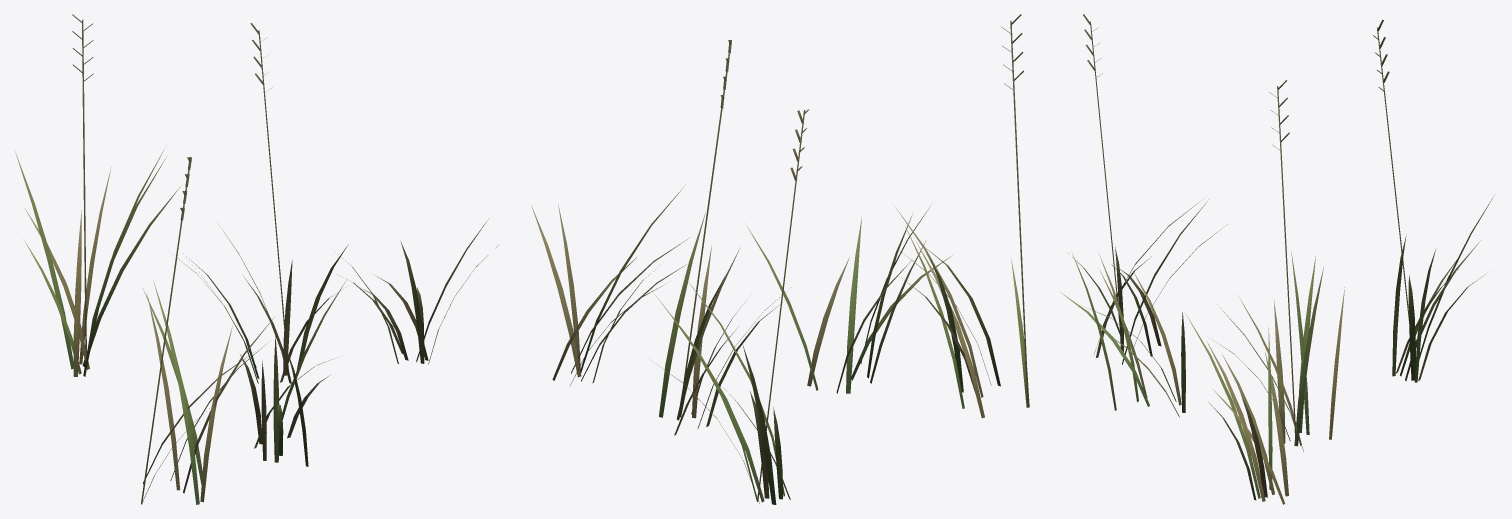
Rendered from meadow_dry.gltf.
The picture shows the model from 3 angles, left to right: view 1: azimuth 30°, elevation 25°; view 2: azimuth 150°, elevation 25°; view 3: azimuth 270°, elevation 25°; orthographic projection. The views are drawn at different scales.
Parts seen in each view (by area): view 1: meadow_dry; view 2: meadow_dry; view 3: meadow_dry.
Boxes of the visible parts, x1,y1,x2,y2 form: meadow_dry: [15, 14, 498, 504]; meadow_dry: [531, 14, 1029, 504]; meadow_dry: [1060, 14, 1494, 504].
Size of the model in its own units: 1.15 by 0.9822 by 1.12.
3 materials, 3 textured.
